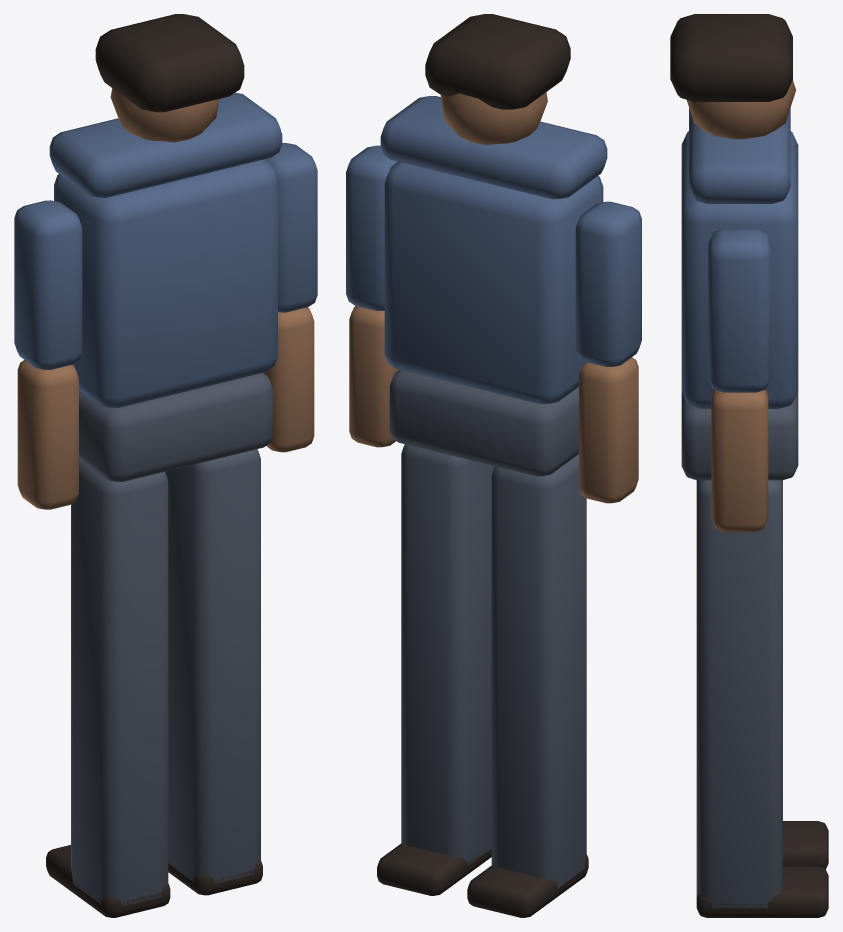
File: pedestrian.glb
3 renders of one model, left to right at view 1: azimuth 30°, elevation 25°; view 2: azimuth 150°, elevation 25°; view 3: azimuth 270°, elevation 25°, orthographic. The views are drawn at different scales.
Visible parts, largest first — view 1: pedestrian_0_body, pedestrian_0_leg_left, pedestrian_0_leg_right, pedestrian_0_arm_left, pedestrian_0_arm_right; view 2: pedestrian_0_body, pedestrian_0_leg_left, pedestrian_0_leg_right, pedestrian_0_arm_left, pedestrian_0_arm_right; view 3: pedestrian_0_body, pedestrian_0_leg_right, pedestrian_0_arm_right, pedestrian_0_leg_left.
Part boxes in pixels (x1,y1,x2,y2): pedestrian_0_body: [49, 14, 282, 481]; pedestrian_0_leg_left: [46, 459, 170, 917]; pedestrian_0_leg_right: [165, 449, 262, 895]; pedestrian_0_arm_left: [14, 200, 82, 509]; pedestrian_0_arm_right: [263, 143, 317, 452]; pedestrian_0_body: [380, 14, 607, 476]; pedestrian_0_leg_left: [467, 454, 588, 917]; pedestrian_0_leg_right: [377, 444, 494, 895]; pedestrian_0_arm_left: [575, 201, 641, 503]; pedestrian_0_arm_right: [346, 145, 398, 447]; pedestrian_0_body: [670, 14, 798, 480]; pedestrian_0_leg_right: [696, 480, 828, 917]; pedestrian_0_arm_right: [708, 229, 771, 532]; pedestrian_0_leg_left: [783, 821, 828, 869].
Bounding box in the file's own units: 0.644 × 1.86 × 0.312.
